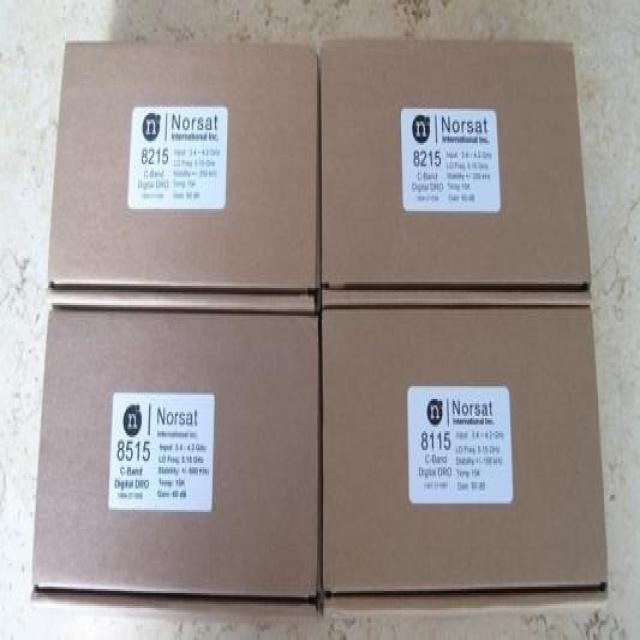box: (30, 287, 323, 612), (323, 288, 608, 611), (47, 45, 322, 288), (319, 46, 591, 287)
